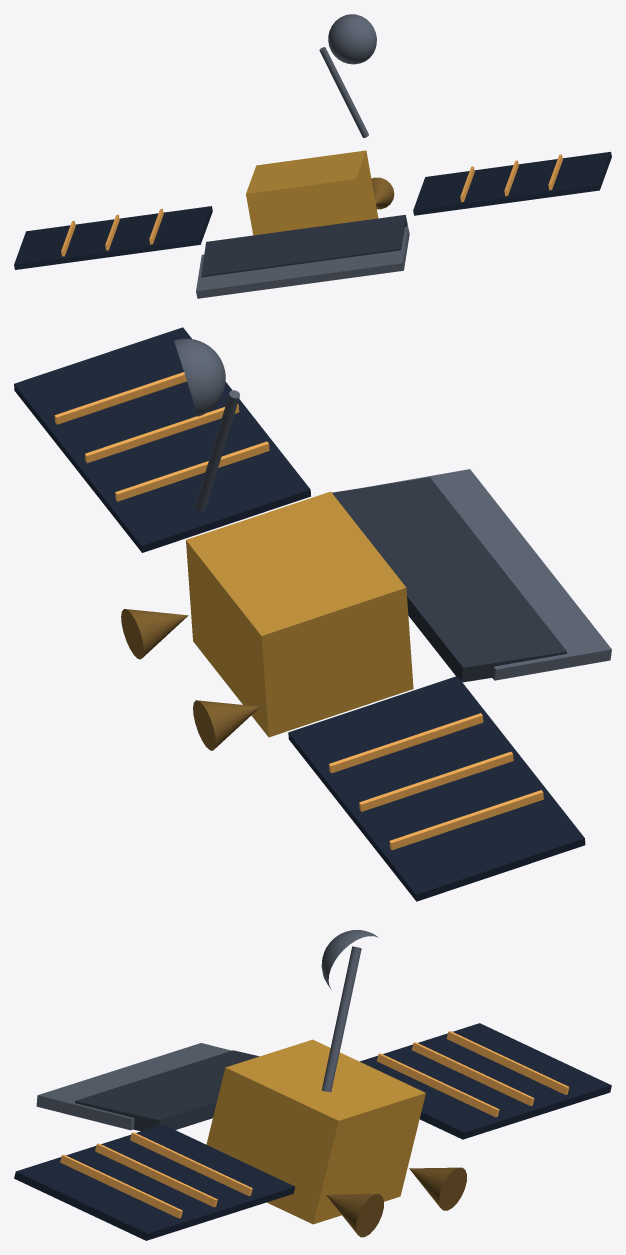
The model's file is risat-2b.glb.
The picture shows the model from 3 angles, top to bottom: view 1: azimuth 30°, elevation 25°; view 2: azimuth 150°, elevation 25°; view 3: azimuth 270°, elevation 25°; orthographic projection. The views are drawn at different scales.
Parts seen in each view (by area): view 1: Bus_RadarCore, Bus_SarBackplane, SolarPanels_Left, SolarPanels_Right, Payload_SarPanel, Antenna_Dish, SolarPanels, Antenna_Mast, Thrusters_Nozzle_0.38; view 2: Bus_RadarCore, SolarPanels_Left, SolarPanels_Right, Bus_SarBackplane, Payload_SarPanel, SolarPanels, Antenna_Dish, Thrusters_Nozzle_-0.38, Thrusters_Nozzle_0.38, Antenna_Mast; view 3: Bus_RadarCore, SolarPanels_Right, SolarPanels_Left, SolarPanels, Bus_SarBackplane, Payload_SarPanel, Thrusters_Nozzle_0.38, Thrusters_Nozzle_-0.38, Antenna_Mast, Antenna_Dish.
Part boxes in pixels (x1=…): Bus_RadarCore: x1=246, y1=150, x2=378, y2=235; Bus_SarBackplane: x1=201, y1=214, x2=407, y2=277; SolarPanels_Left: x1=14, y1=206, x2=212, y2=269; SolarPanels_Right: x1=413, y1=151, x2=611, y2=215; Payload_SarPanel: x1=196, y1=226, x2=409, y2=298; Antenna_Dish: x1=328, y1=14, x2=376, y2=64; SolarPanels: x1=61, y1=154, x2=562, y2=256; Antenna_Mast: x1=319, y1=47, x2=368, y2=137; Thrusters_Nozzle_0.38: x1=371, y1=177, x2=394, y2=209; Bus_RadarCore: x1=186, y1=491, x2=413, y2=737; SolarPanels_Left: x1=288, y1=676, x2=585, y2=901; SolarPanels_Right: x1=14, y1=327, x2=310, y2=552; Bus_SarBackplane: x1=332, y1=477, x2=566, y2=682; Payload_SarPanel: x1=366, y1=469, x2=611, y2=680; SolarPanels: x1=54, y1=372, x2=543, y2=850; Antenna_Dish: x1=174, y1=338, x2=225, y2=416; Thrusters_Nozzle_-0.38: x1=193, y1=700, x2=260, y2=750; Thrusters_Nozzle_0.38: x1=121, y1=609, x2=188, y2=659; Antenna_Mast: x1=195, y1=390, x2=239, y2=510; Bus_RadarCore: x1=206, y1=1039, x2=425, y2=1224; SolarPanels_Right: x1=14, y1=1124, x2=294, y2=1240; SolarPanels_Left: x1=360, y1=1023, x2=611, y2=1139; SolarPanels: x1=60, y1=1031, x2=569, y2=1218; Bus_SarBackplane: x1=75, y1=1050, x2=259, y2=1131; Payload_SarPanel: x1=36, y1=1043, x2=231, y2=1130; Thrusters_Nozzle_0.38: x1=326, y1=1194, x2=383, y2=1237; Thrusters_Nozzle_-0.38: x1=409, y1=1167, x2=466, y2=1210; Antenna_Mast: x1=322, y1=946, x2=361, y2=1092; Antenna_Dish: x1=321, y1=930, x2=378, y2=989.
Size of the model in its own units: 4.73 by 2.16 by 3.65.
